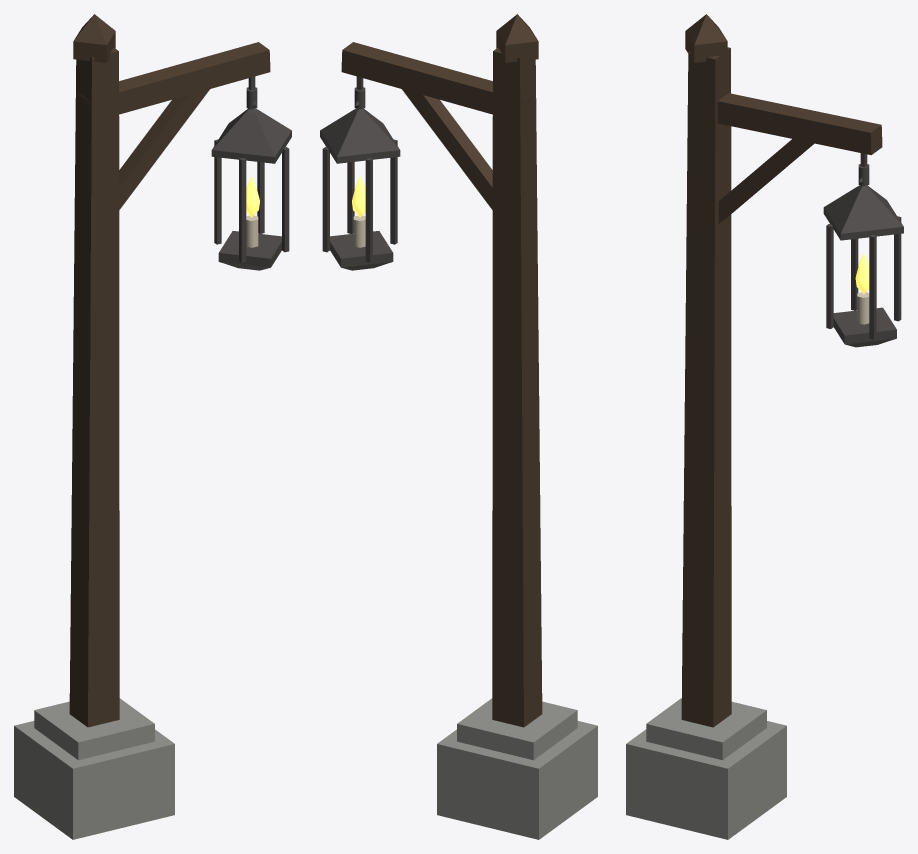
The model's file is lamppost.glb.
3 renders of one model, left to right at view 1: azimuth 30°, elevation 25°; view 2: azimuth 150°, elevation 25°; view 3: azimuth 330°, elevation 25°, orthographic.
Parts seen in each view (by area): view 1: lamppost; view 2: lamppost; view 3: lamppost.
Boxes of the visible parts, <box> form: lamppost: <box>14,14,291,839</box>; lamppost: <box>320,14,597,839</box>; lamppost: <box>626,14,903,839</box>.
Bounding box in the file's own units: 1.17 × 3.56 × 0.48.
